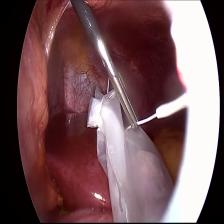Grasper: (93, 42, 142, 131)
Specimen Bag: (79, 82, 176, 224)
